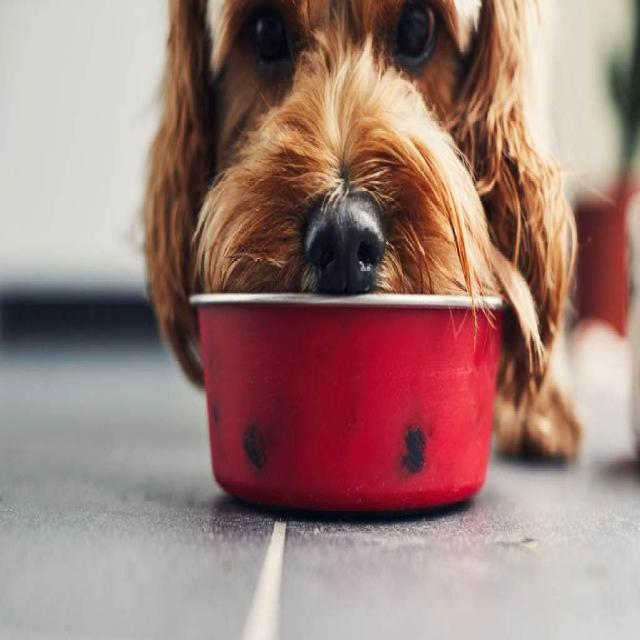Dog: (126, 0, 590, 492)
